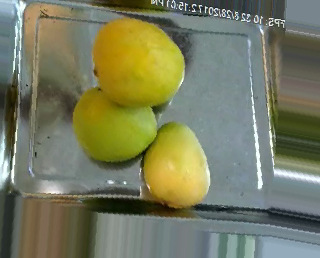Mango: (93, 18, 185, 105), (72, 87, 157, 161), (144, 121, 208, 208)
